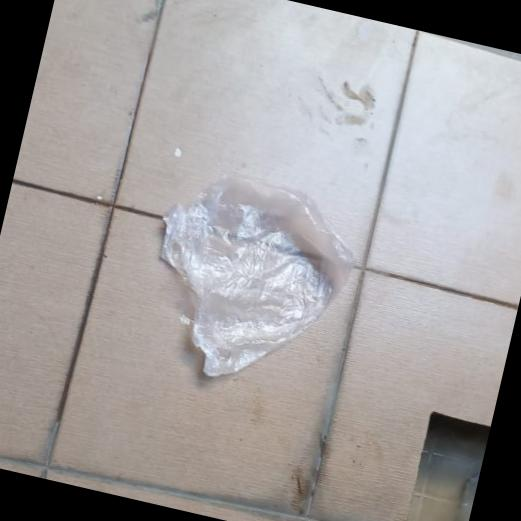Plastik: (128, 160, 368, 402)
